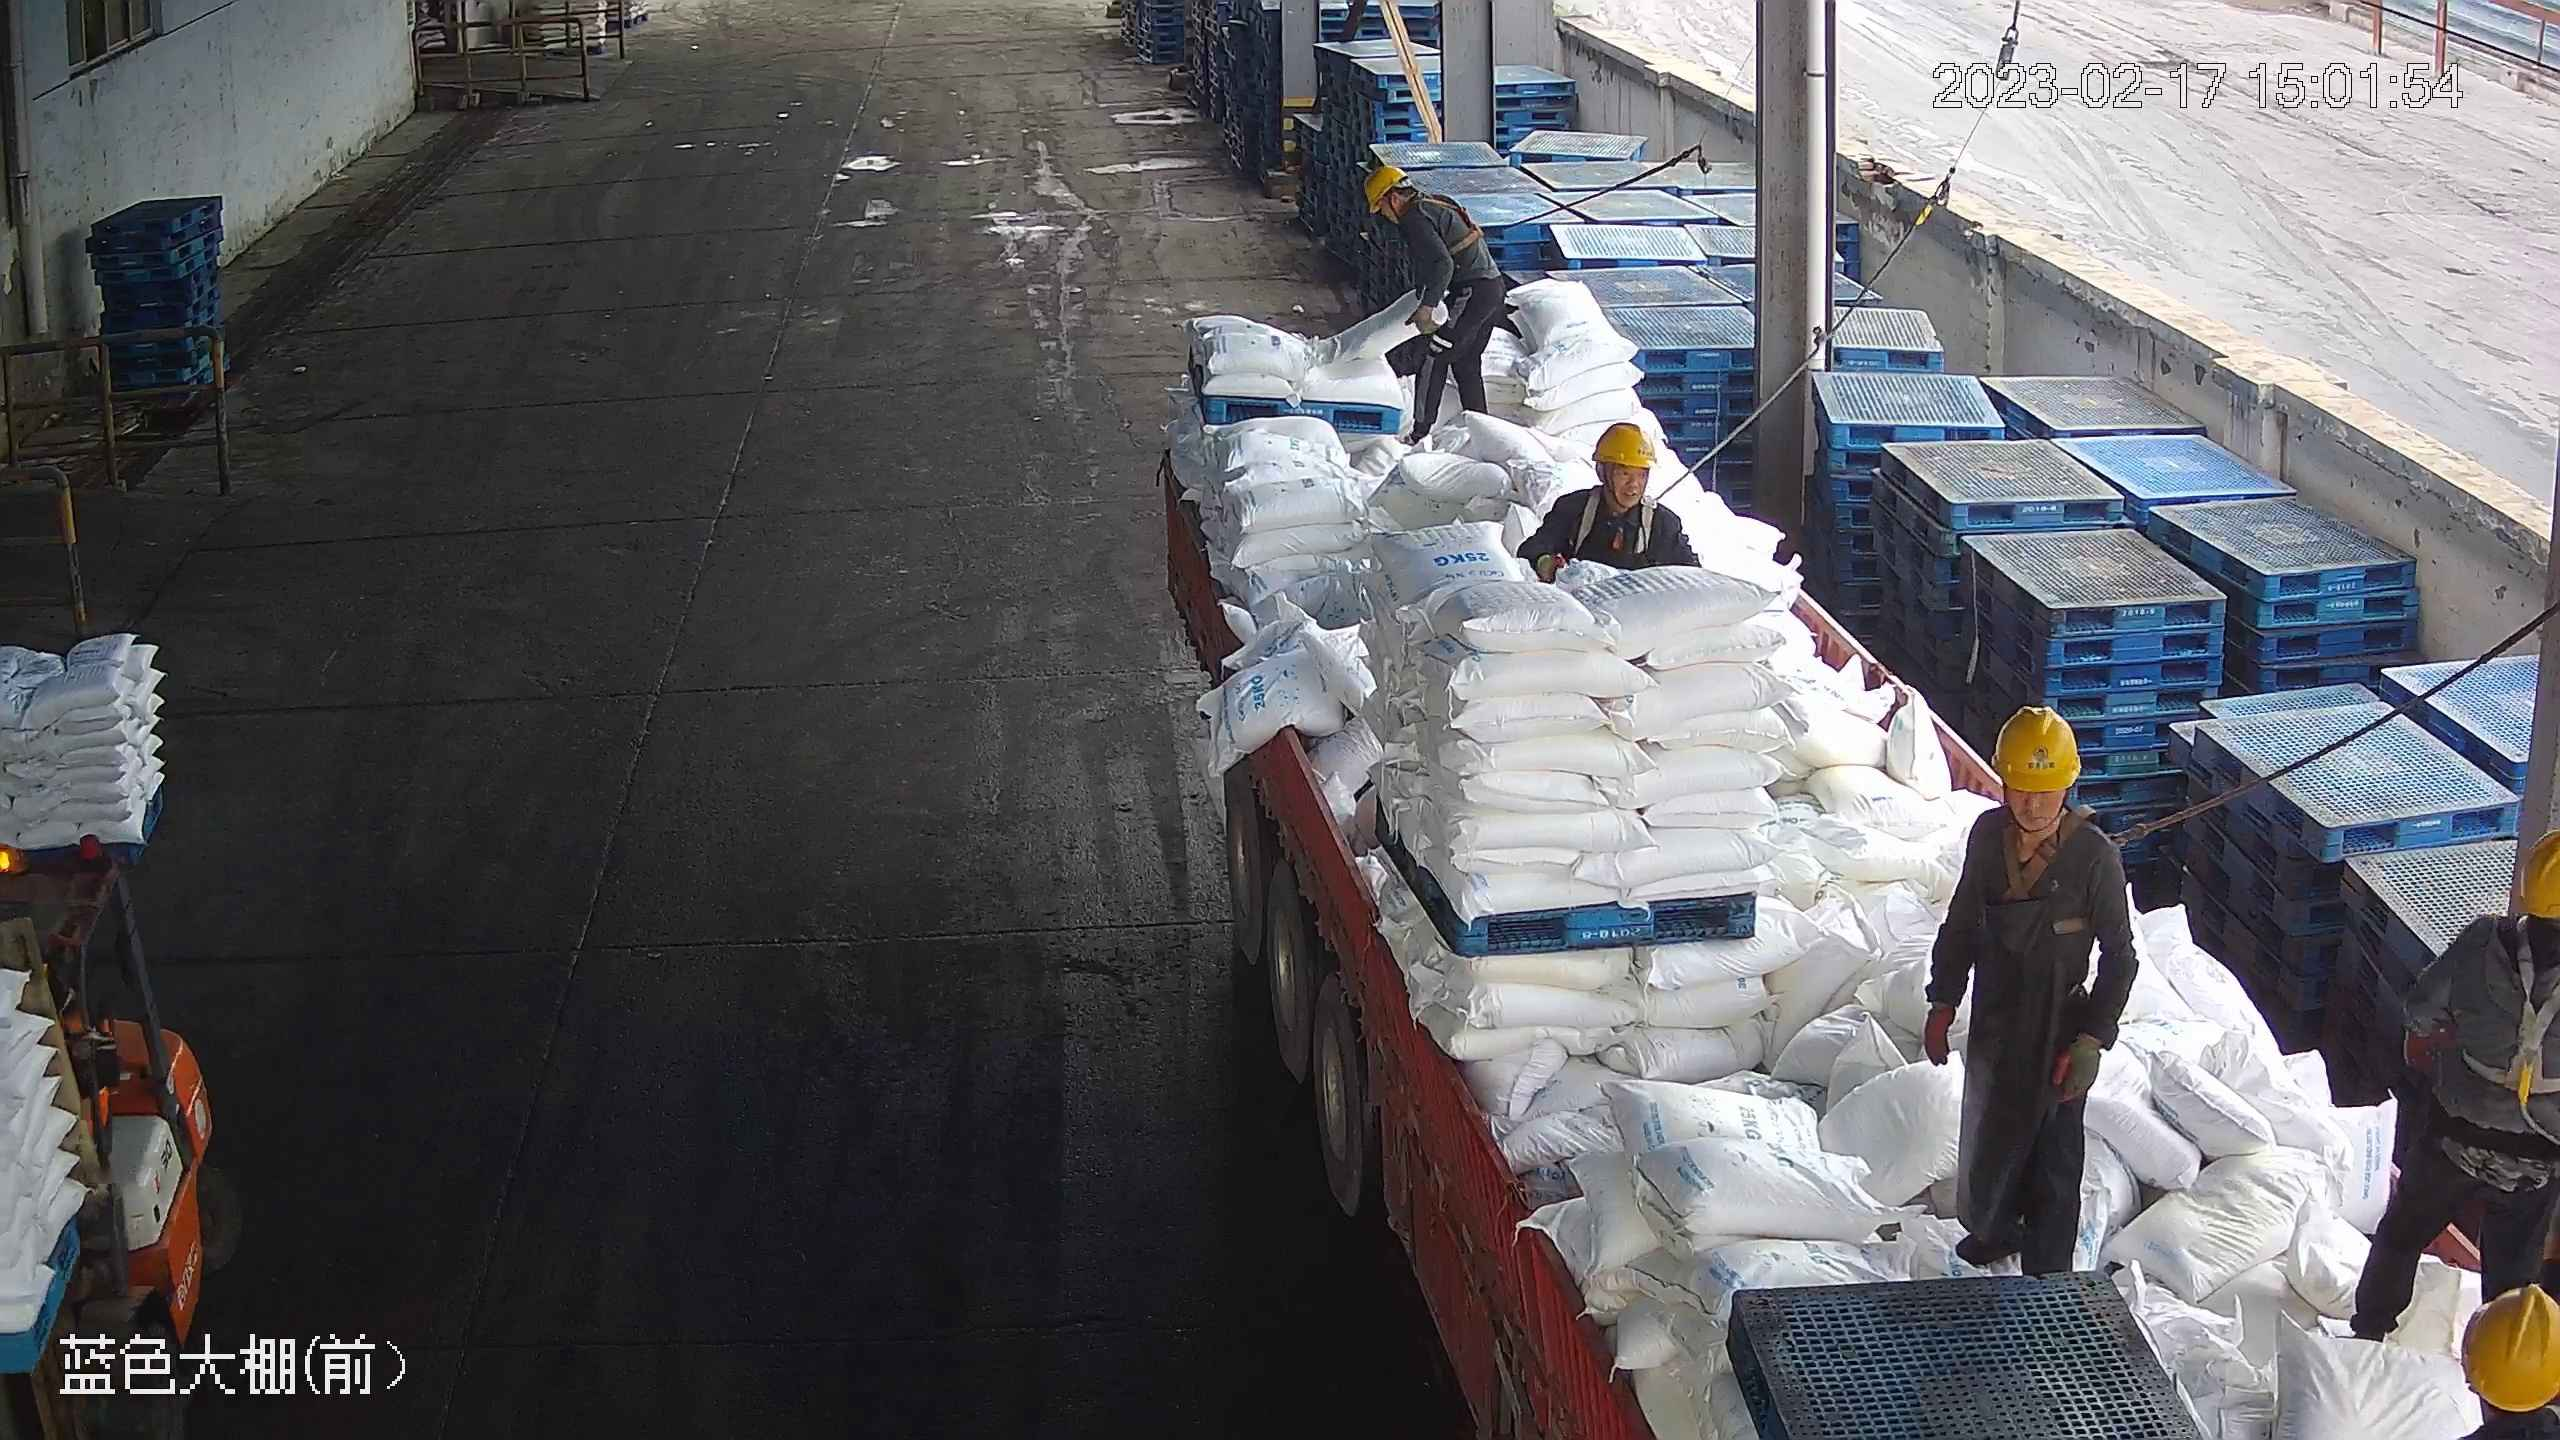belt: (2456, 915, 2560, 1102), (1985, 800, 2105, 911), (1575, 486, 1650, 564), (1412, 193, 1487, 259)
head: (1949, 701, 2126, 893), (2447, 808, 2559, 1038), (1549, 419, 1688, 541), (1364, 162, 1464, 250)
helmet: (2461, 1282, 2560, 1413), (1990, 700, 2084, 792), (2518, 813, 2560, 930), (1590, 421, 1659, 471), (1364, 163, 1408, 216)
people: (1918, 701, 2137, 1275), (2348, 812, 2560, 1355), (1364, 162, 1514, 446)
truck: (1151, 435, 2549, 1437)
